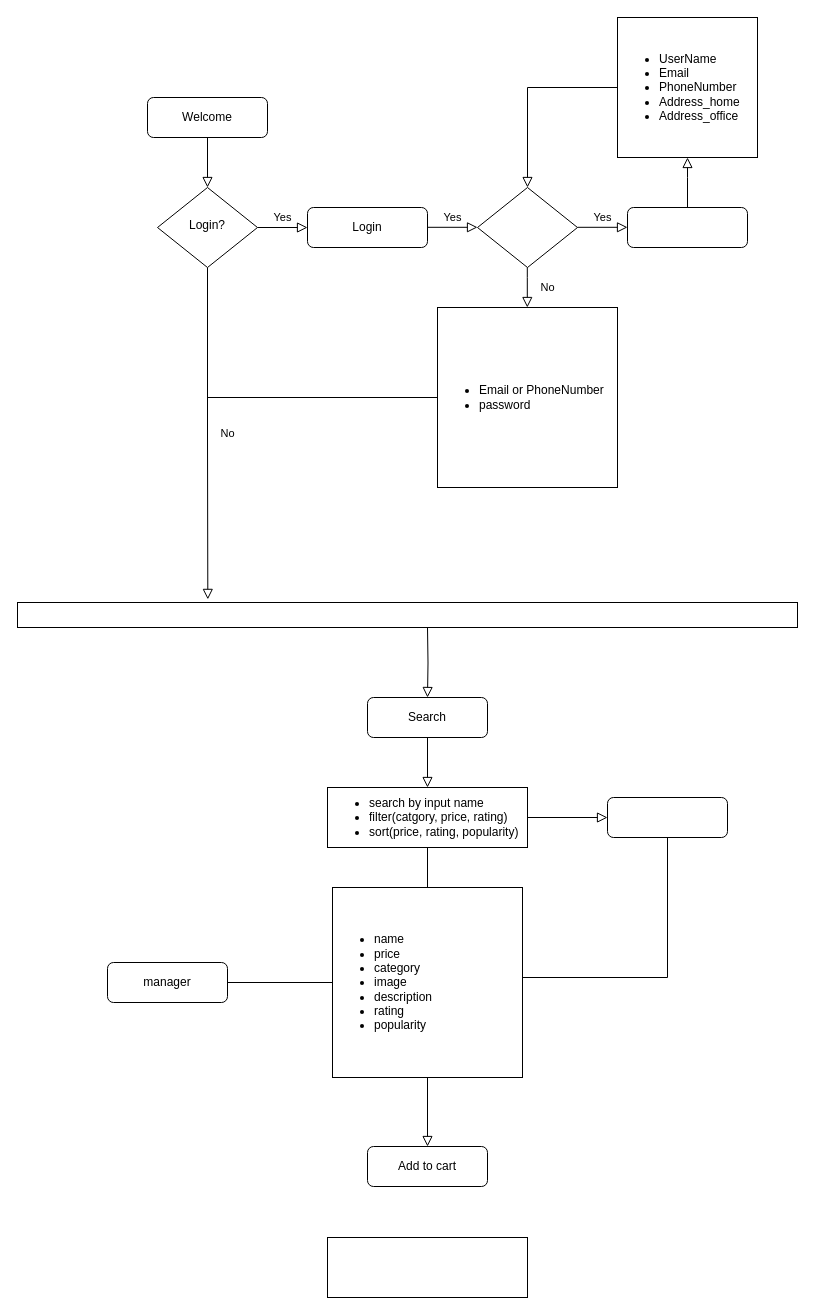
This 815x1315 diagram has some shape labels left out. The shapes that lost their labels are listed below. From the top down, each one's box as (x1, y1, x2, y2) in pixels, then its label:
(476, 186, 578, 268): New User?
(626, 206, 748, 248): Create account
(16, 602, 798, 628): dispaly Sushi
(606, 796, 728, 838): Detail
(326, 1236, 528, 1298): Item * quantity Item * quantity
